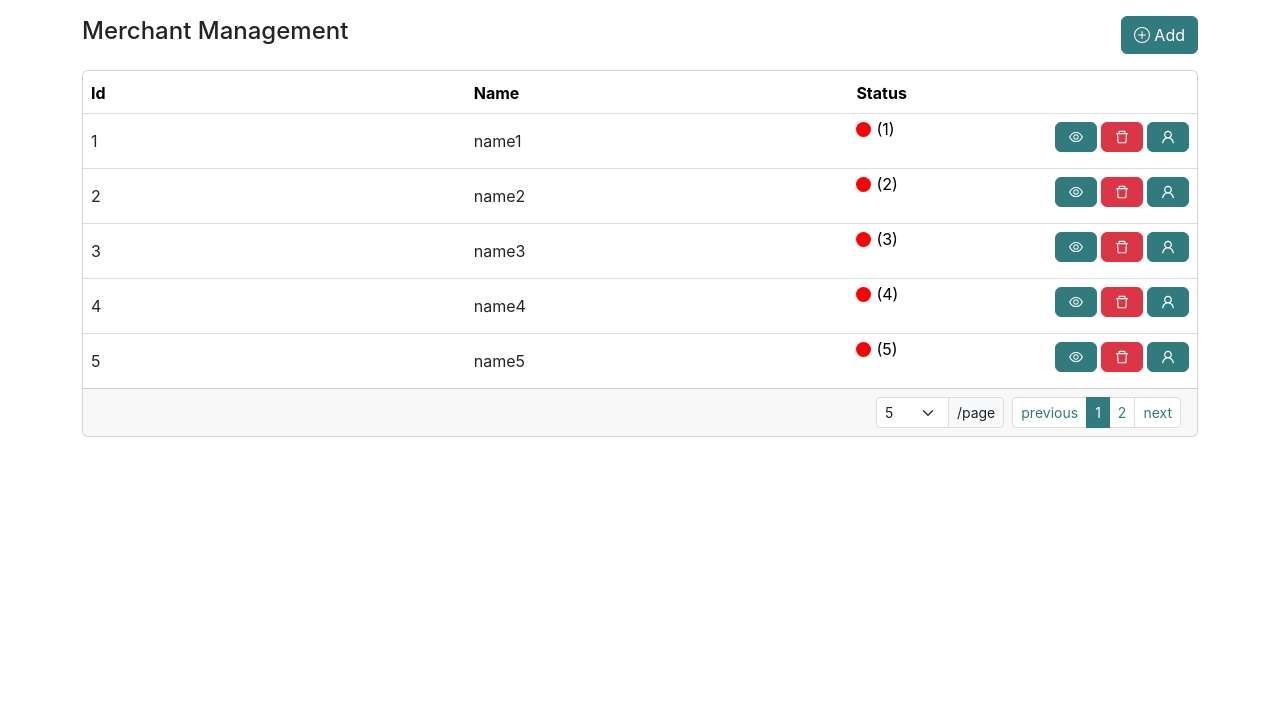
Test: Demo merchant management › Should open merchant detail dialog when clicking add button
Click the button "Add".
click(1160, 35)  # box x1=1121 y1=16 x2=1198 y2=54
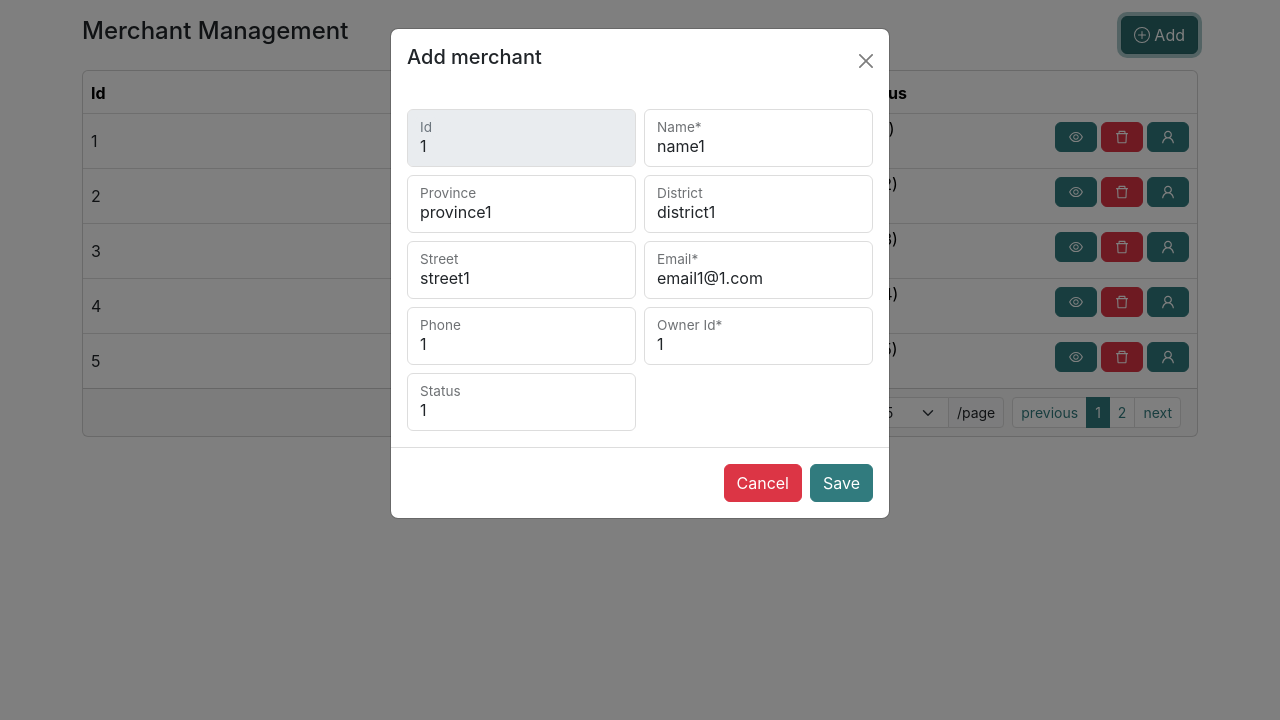
Expected: the dialog is shown, x1=390 y1=28 x2=890 y2=519
